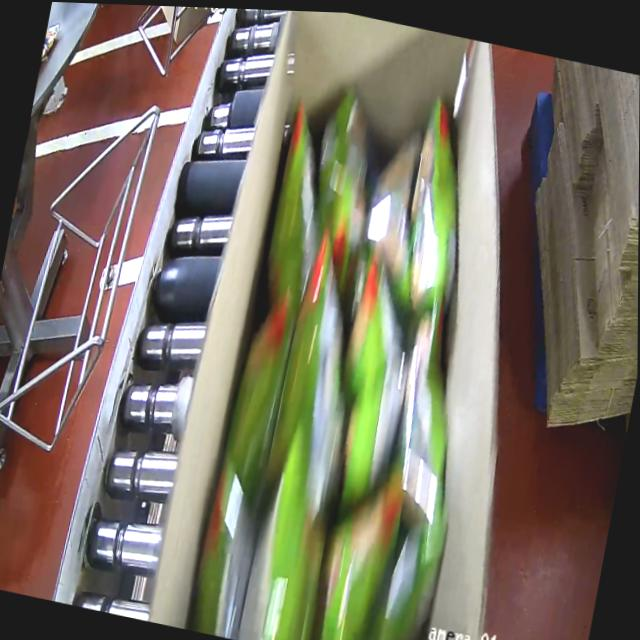YOGURT_HERB: (181, 45, 527, 640)
